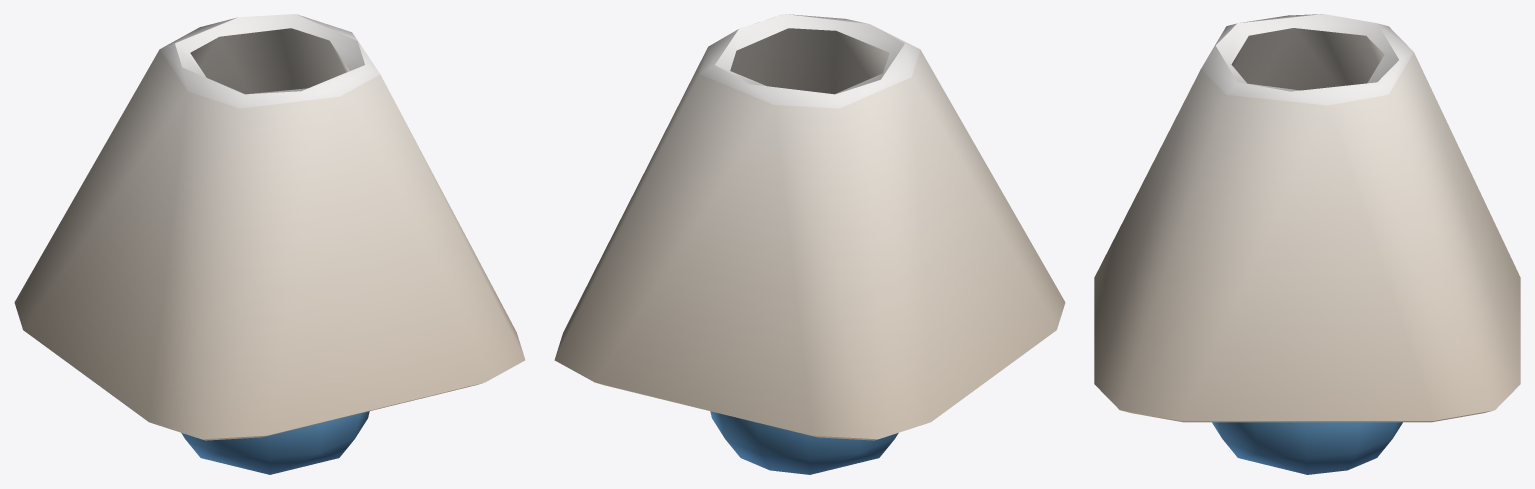
File: cc0-lamp-table-lod1.glb
3 renders of one model, left to right at view 1: azimuth 30°, elevation 25°; view 2: azimuth 150°, elevation 25°; view 3: azimuth 270°, elevation 25°, orthographic.
Visible parts, largest first — view 1: part_0; view 2: part_0; view 3: part_0.
Boxes of the visible parts, x1,y1,x2,y2 form: part_0: [14, 14, 525, 474]; part_0: [554, 14, 1065, 474]; part_0: [1094, 14, 1520, 474].
Size of the model in its own units: 1 by 1.01 by 1.
Materials: 1 (1 with a texture image).
